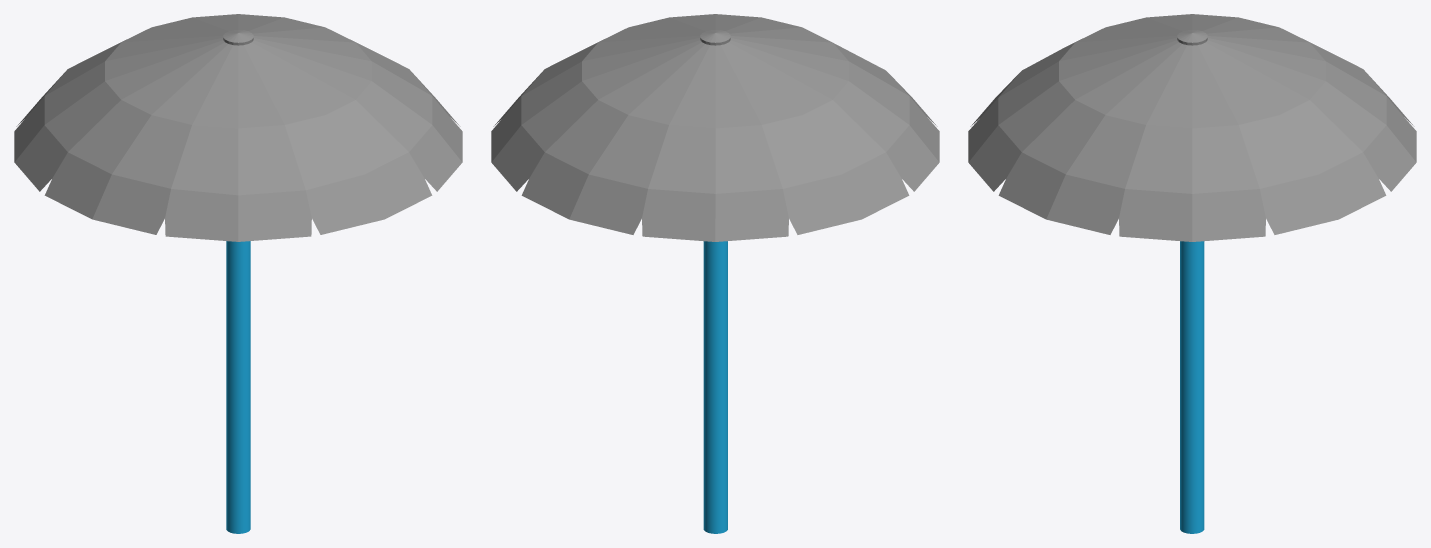
File: Sun_Umbrella.FBX
The picture shows the model from 3 angles, left to right: view 1: azimuth 30°, elevation 25°; view 2: azimuth 150°, elevation 25°; view 3: azimuth 270°, elevation 25°; orthographic projection.
Visible parts, largest first — view 1: Umbrella, Handle; view 2: Umbrella, Handle; view 3: Umbrella, Handle.
Boxes of the visible parts, bbox=[...] form: Umbrella: bbox=[14, 14, 462, 241]; Handle: bbox=[226, 241, 250, 533]; Umbrella: bbox=[491, 14, 939, 241]; Handle: bbox=[703, 241, 727, 533]; Umbrella: bbox=[968, 14, 1416, 241]; Handle: bbox=[1180, 241, 1204, 533].
Size of the model in its own units: 171 by 206 by 169.
